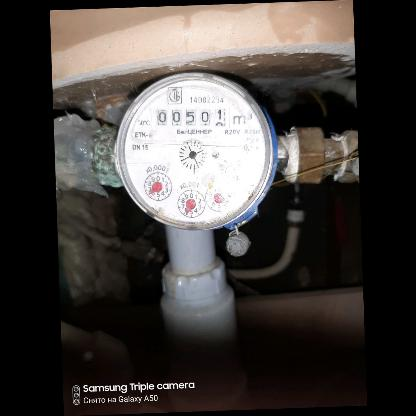digital_screen: (154, 105, 230, 127)
